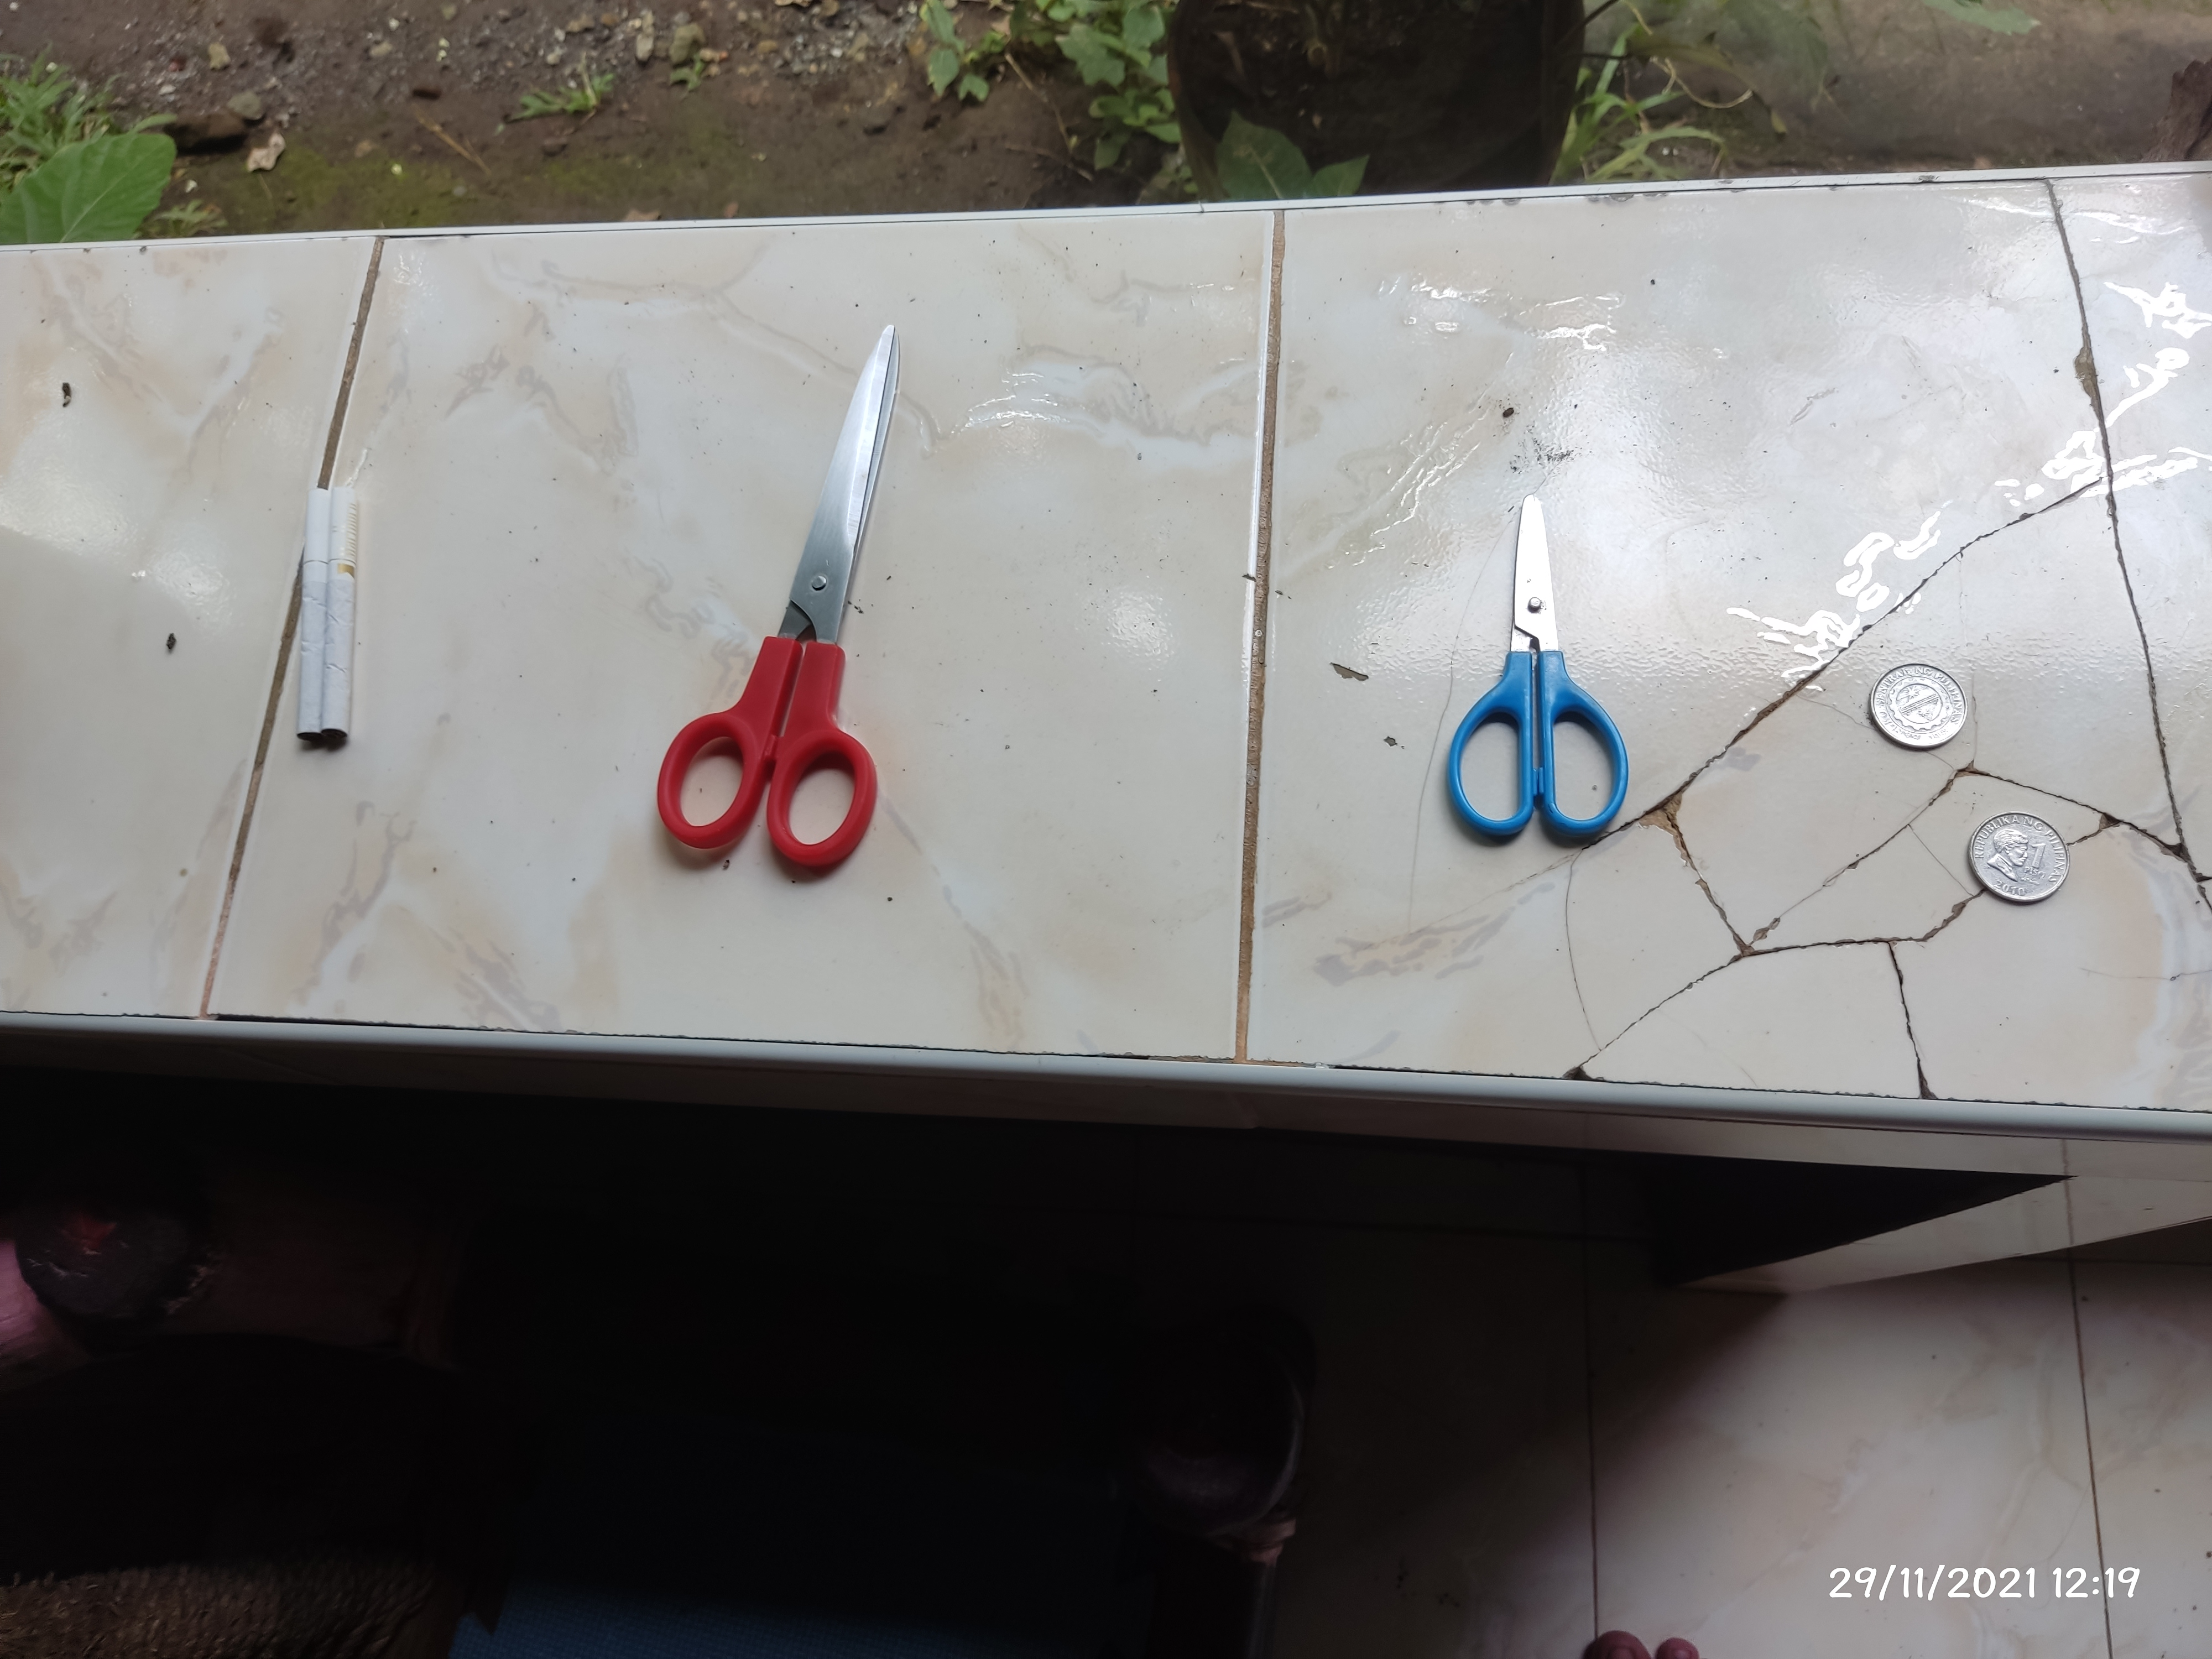scissor: (662, 310, 904, 868), (1433, 495, 1632, 850)
